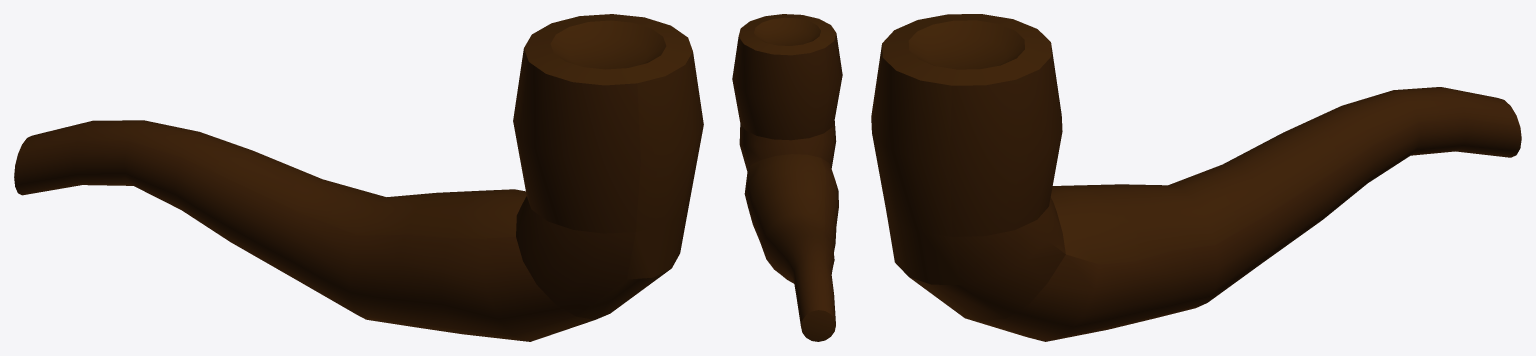
Rendered from CachimboDeBolha.fbx.
The picture shows the model from 3 angles, left to right: view 1: azimuth 30°, elevation 25°; view 2: azimuth 150°, elevation 25°; view 3: azimuth 270°, elevation 25°; orthographic projection. The views are drawn at different scales.
Visible parts, largest first — view 1: CachimboDeBolha; view 2: CachimboDeBolha; view 3: CachimboDeBolha.
Part boxes in pixels (x1=…): CachimboDeBolha: x1=14, y1=14, x2=703, y2=341; CachimboDeBolha: x1=732, y1=14, x2=842, y2=341; CachimboDeBolha: x1=871, y1=14, x2=1521, y2=341.
Bounding box in the file's own units: 127 × 90.97 × 167.
